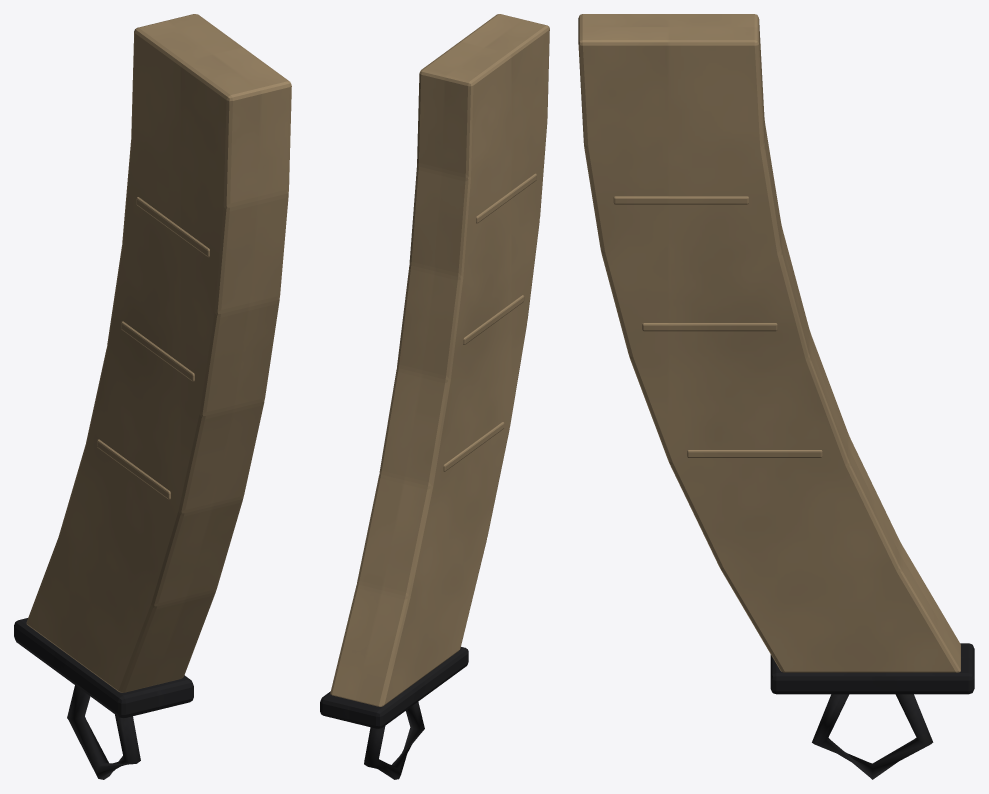
The model's file is mag_extquick_rifle.glb.
3 renders of one model, left to right at view 1: azimuth 30°, elevation 25°; view 2: azimuth 150°, elevation 25°; view 3: azimuth 270°, elevation 25°, orthographic. The views are drawn at different scales.
Parts seen in each view (by area): view 1: mag, mag_base, tab, mag_rib2, mag_rib1, mag_rib0; view 2: mag, mag_base, tab, mag_rib1, mag_rib2, mag_rib0; view 3: mag, mag_base, tab, mag_rib0, mag_rib1, mag_rib2.
Part boxes in pixels (x1,y1,x2,y2): mag: (26,14,291,692); mag_base: (14,618,193,718); tab: (67,685,140,779); mag_rib2: (97,439,170,499); mag_rib1: (121,321,194,381); mag_rib0: (136,197,209,257); mag: (330,14,549,706); mag_base: (320,647,468,728); tab: (364,702,424,779); mag_rib1: (463,295,524,344); mag_rib2: (443,422,504,471); mag_rib0: (476,173,536,223); mag: (578,14,960,672); mag_base: (770,643,974,694); tab: (812,694,933,779); mag_rib0: (613,196,748,204); mag_rib1: (642,323,777,331); mag_rib2: (687,450,822,457).
Size of the model in its own units: 0.028 by 0.285 by 0.1359.
3 materials, 3 textured.
